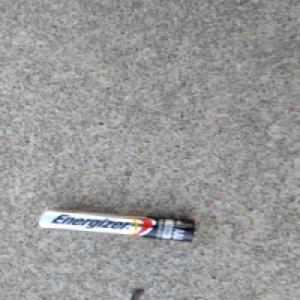Battery: (35, 207, 197, 243)
